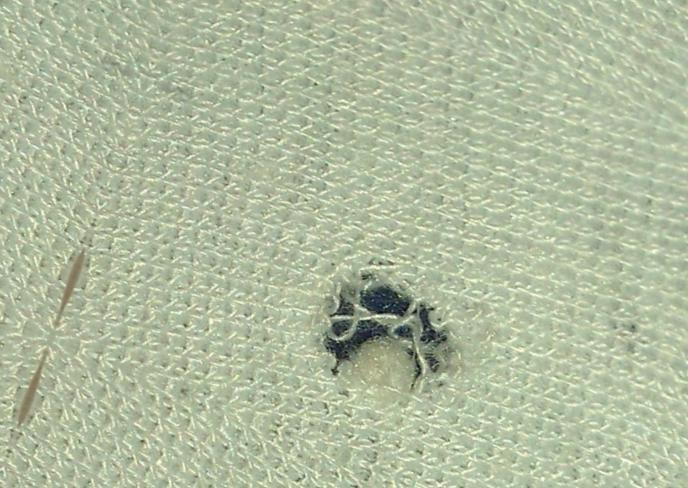hole: (326, 321, 437, 423)
